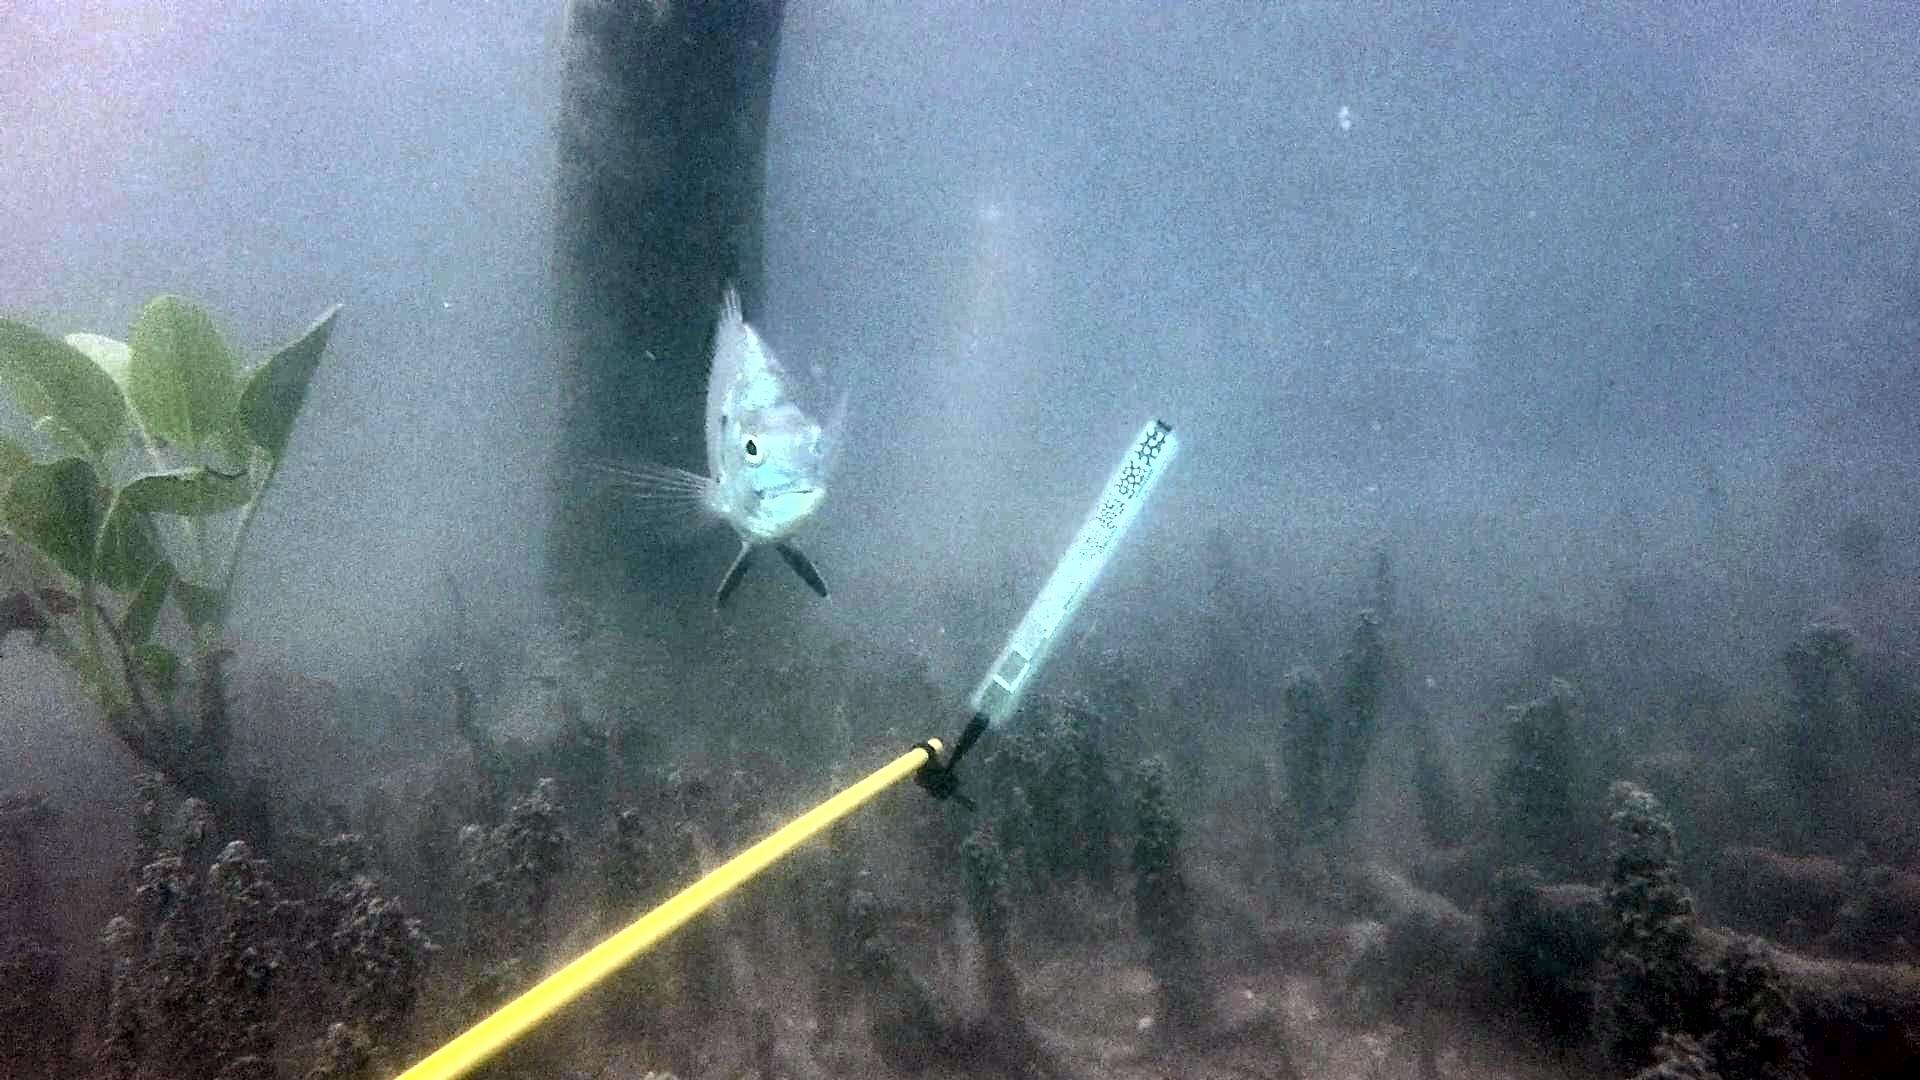acanthopagrus palmaris: (615, 233, 874, 613)
